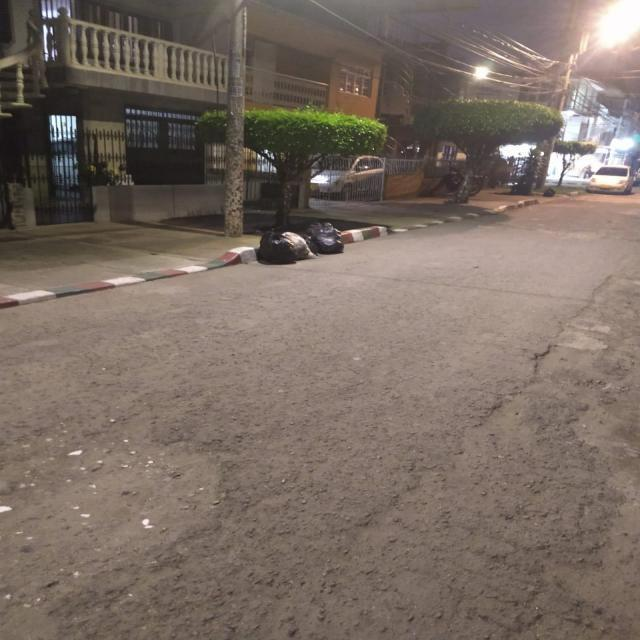Garbage_Bag: (257, 229, 299, 263), (304, 222, 346, 254), (282, 229, 318, 259)
